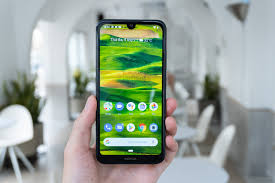nokia: (90, 16, 169, 162)
